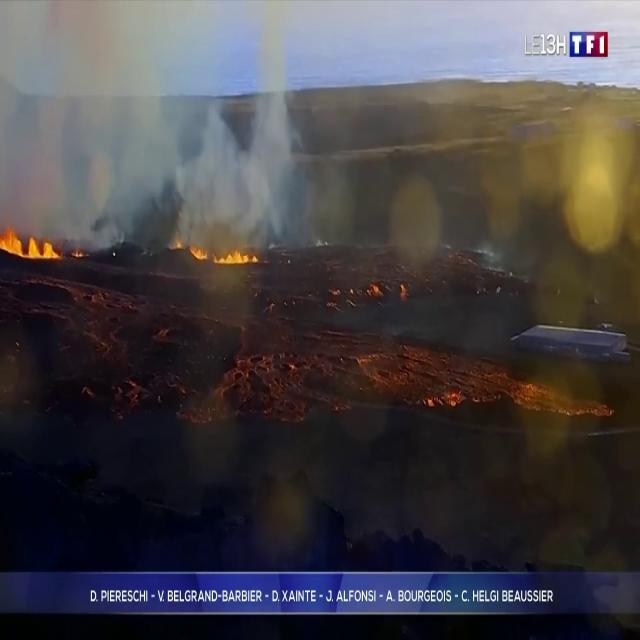Fire: (176, 231, 264, 272), (0, 226, 61, 264)
Smoke: (0, 8, 324, 236)
